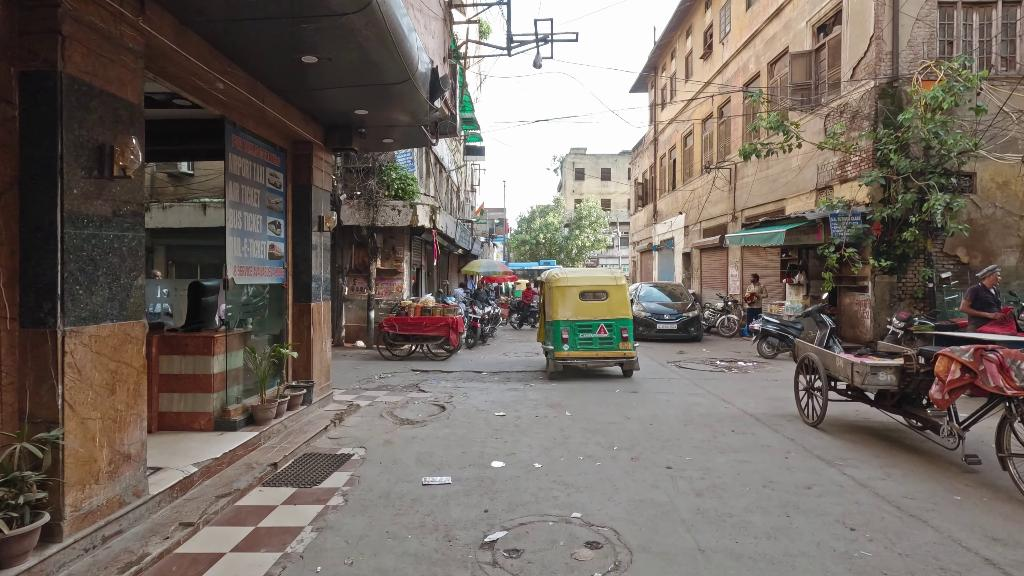garbage: (483, 530, 508, 544), (422, 476, 452, 484), (489, 461, 506, 467), (355, 341, 364, 347)
